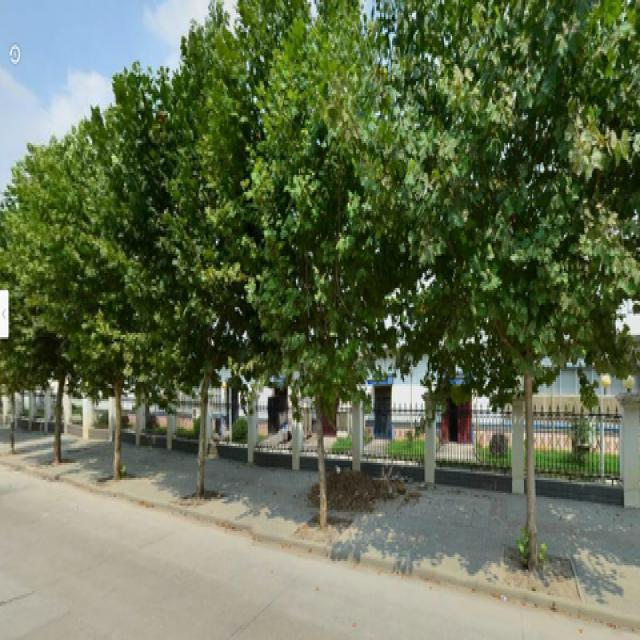meta: (462, 19, 594, 570), (292, 34, 372, 523), (164, 88, 240, 516), (75, 124, 145, 474), (14, 168, 66, 458)
